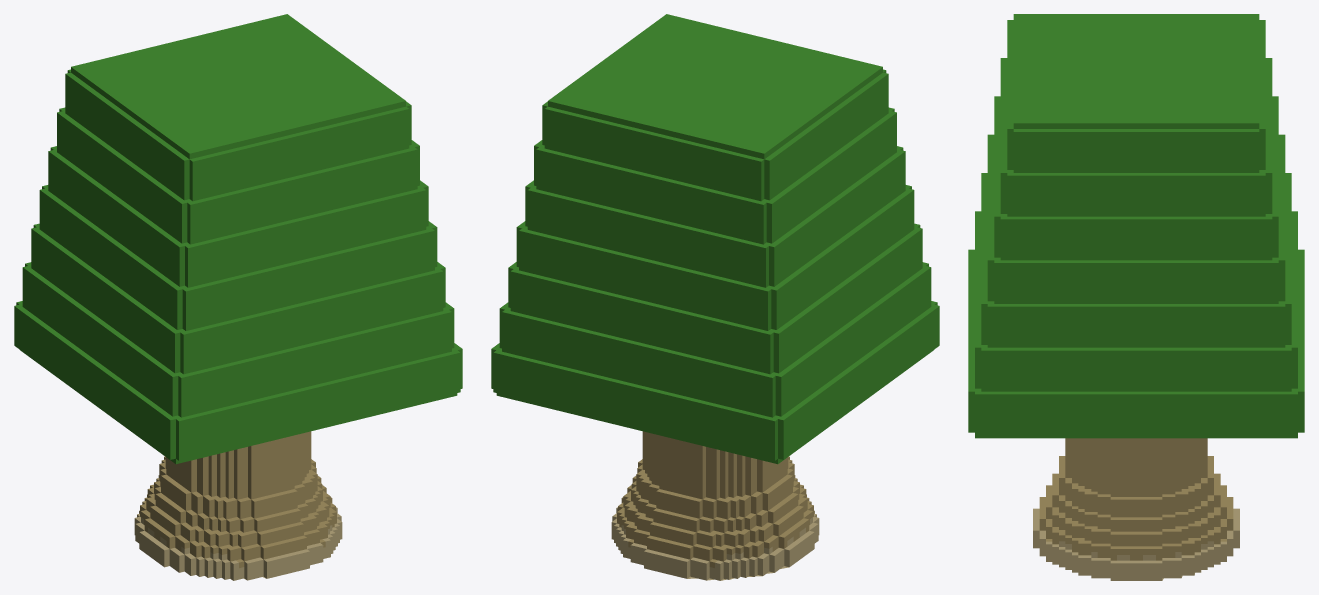
The model's file is Tree01.fbx.
3 renders of one model, left to right at view 1: azimuth 30°, elevation 25°; view 2: azimuth 150°, elevation 25°; view 3: azimuth 270°, elevation 25°, orthographic. The views are drawn at different scales.
Visible parts, largest first — view 1: Tree01; view 2: Tree01; view 3: Tree01.
Boxes of the visible parts, x1=… form: Tree01: x1=14, y1=14, x2=462, y2=580; Tree01: x1=491, y1=14, x2=939, y2=580; Tree01: x1=968, y1=14, x2=1304, y2=580.
Bounding box in the file's own units: 338 × 500 × 325.
